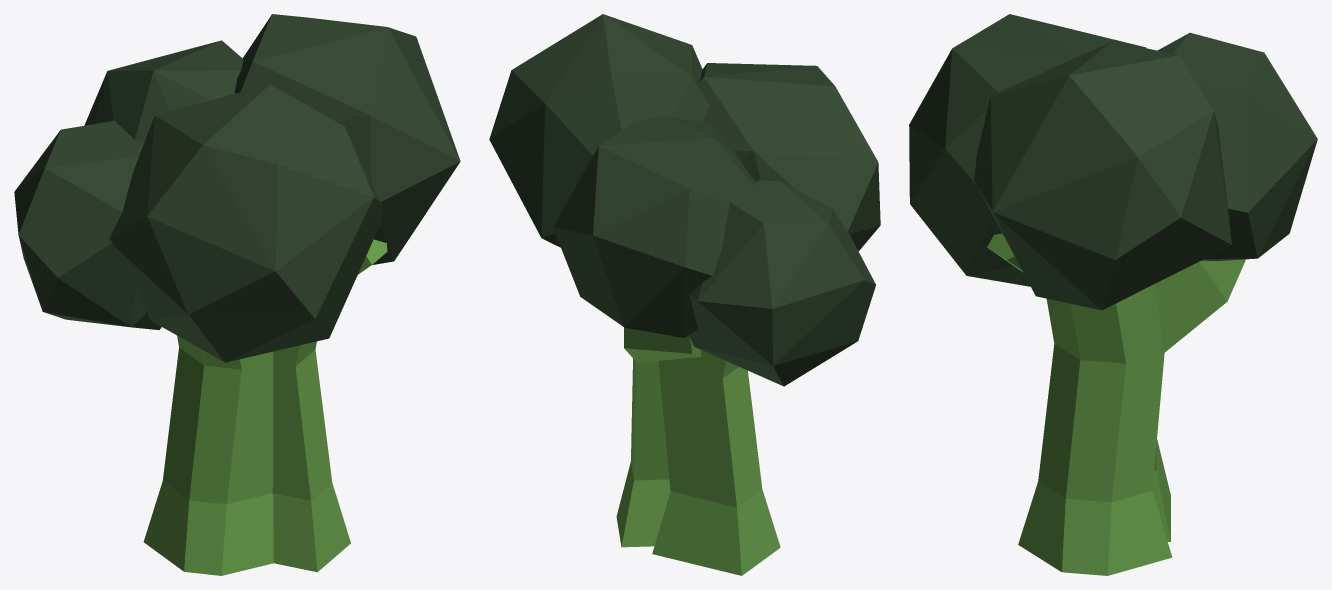
Rendered from Broccoli.glb.
The picture shows the model from 3 angles, left to right: view 1: azimuth 30°, elevation 25°; view 2: azimuth 150°, elevation 25°; view 3: azimuth 270°, elevation 25°; orthographic projection. The views are drawn at different scales.
Visible parts, largest first — view 1: Broccoli; view 2: Broccoli; view 3: Broccoli.
Boxes of the visible parts, box(x1,y1,x2,y2) form: Broccoli: box(14, 14, 460, 575); Broccoli: box(489, 14, 880, 575); Broccoli: box(909, 14, 1317, 575).
Bounding box in the file's own units: 0.7515 × 0.8996 × 0.6444.
